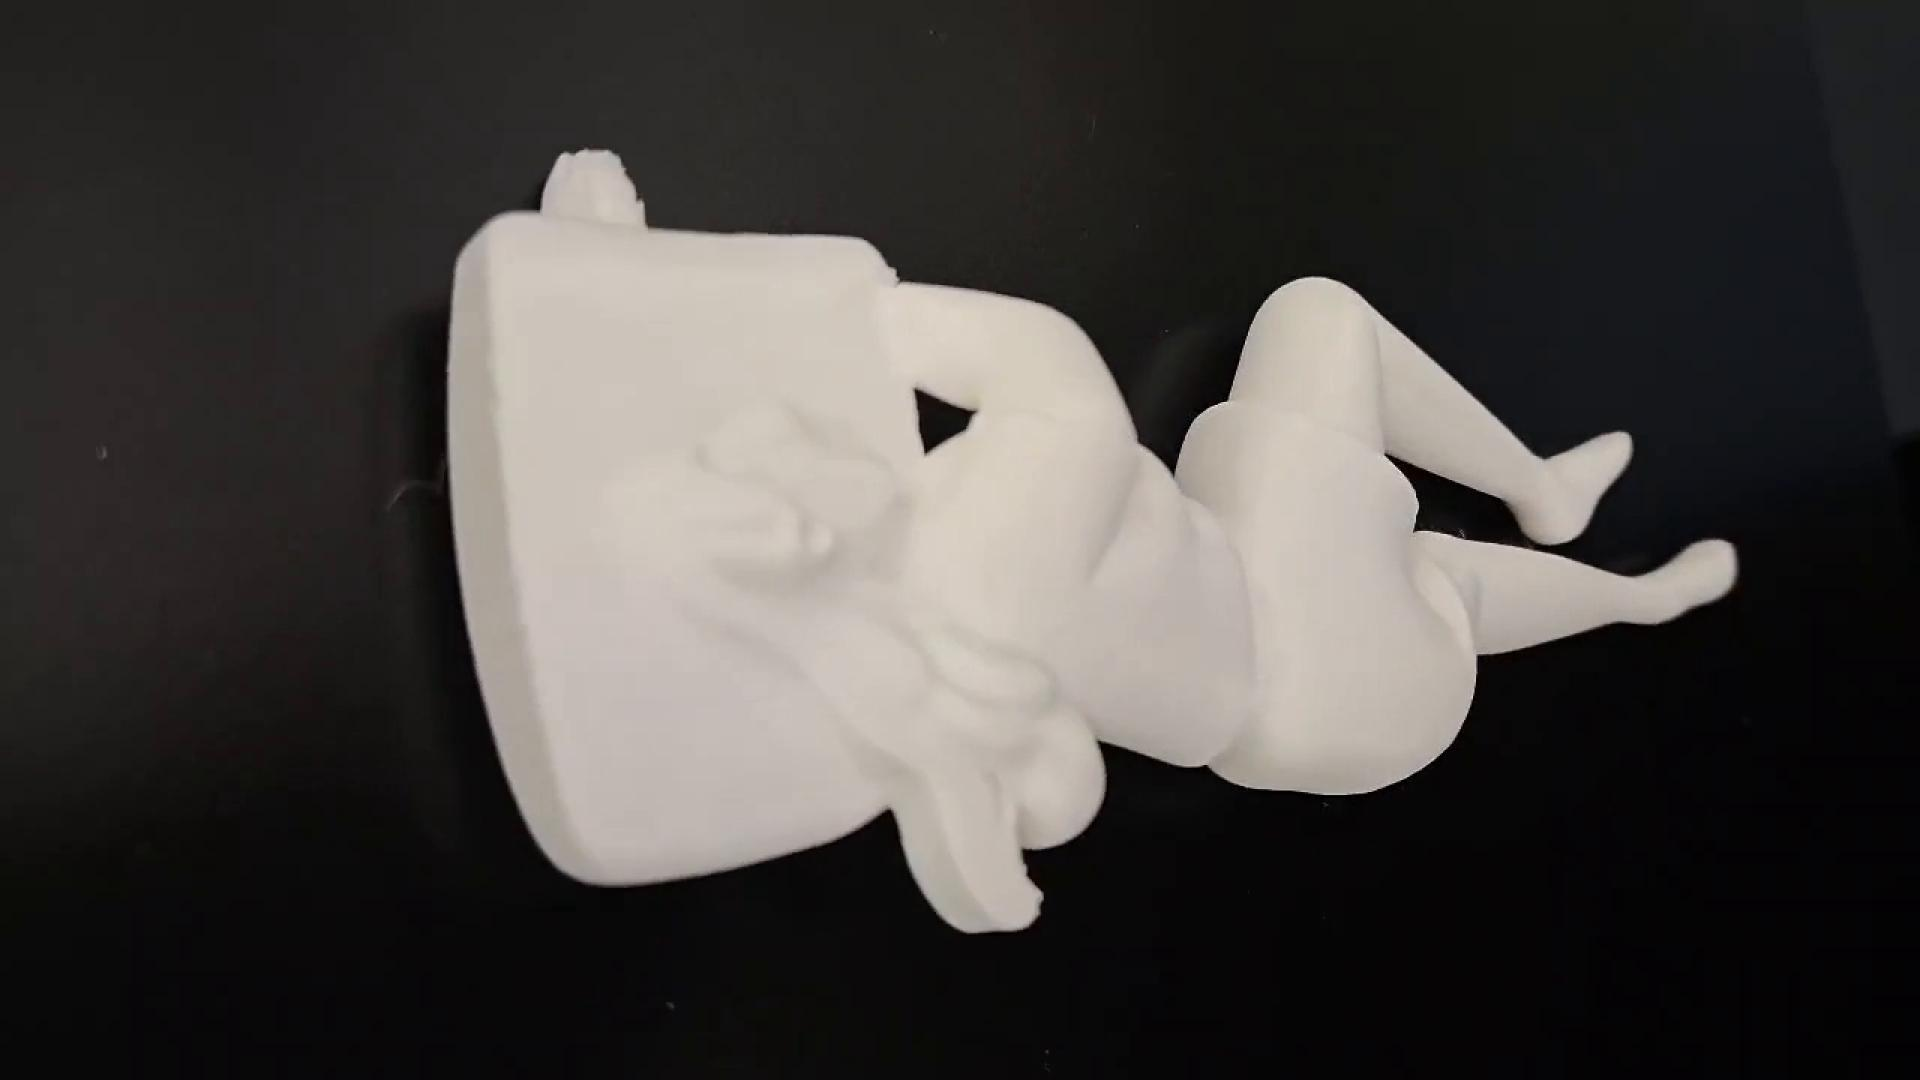Good-style: (442, 146, 1733, 940)
